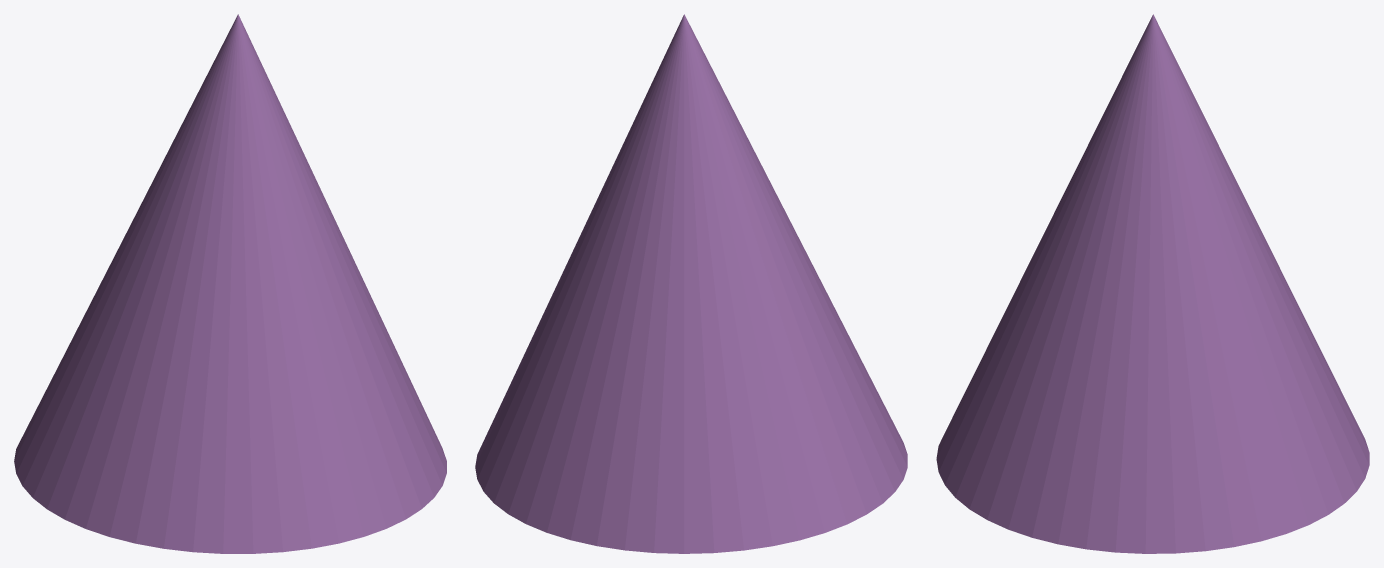
File: Cilindro.glb
The picture shows the model from 3 angles, left to right: view 1: azimuth 30°, elevation 25°; view 2: azimuth 150°, elevation 25°; view 3: azimuth 270°, elevation 25°; orthographic projection.
Visible parts, largest first — view 1: Mesh_Mesh_head_geo.001_lambert2SG.001; view 2: Mesh_Mesh_head_geo.001_lambert2SG.001; view 3: Mesh_Mesh_head_geo.001_lambert2SG.001.
Boxes of the visible parts, x1,y1,x2,y2 form: Mesh_Mesh_head_geo.001_lambert2SG.001: [14, 14, 446, 553]; Mesh_Mesh_head_geo.001_lambert2SG.001: [475, 14, 907, 553]; Mesh_Mesh_head_geo.001_lambert2SG.001: [936, 14, 1369, 553].
Size of the model in its own units: 51.83 by 59.68 by 51.81.
